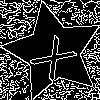X: (28, 27, 85, 83)
